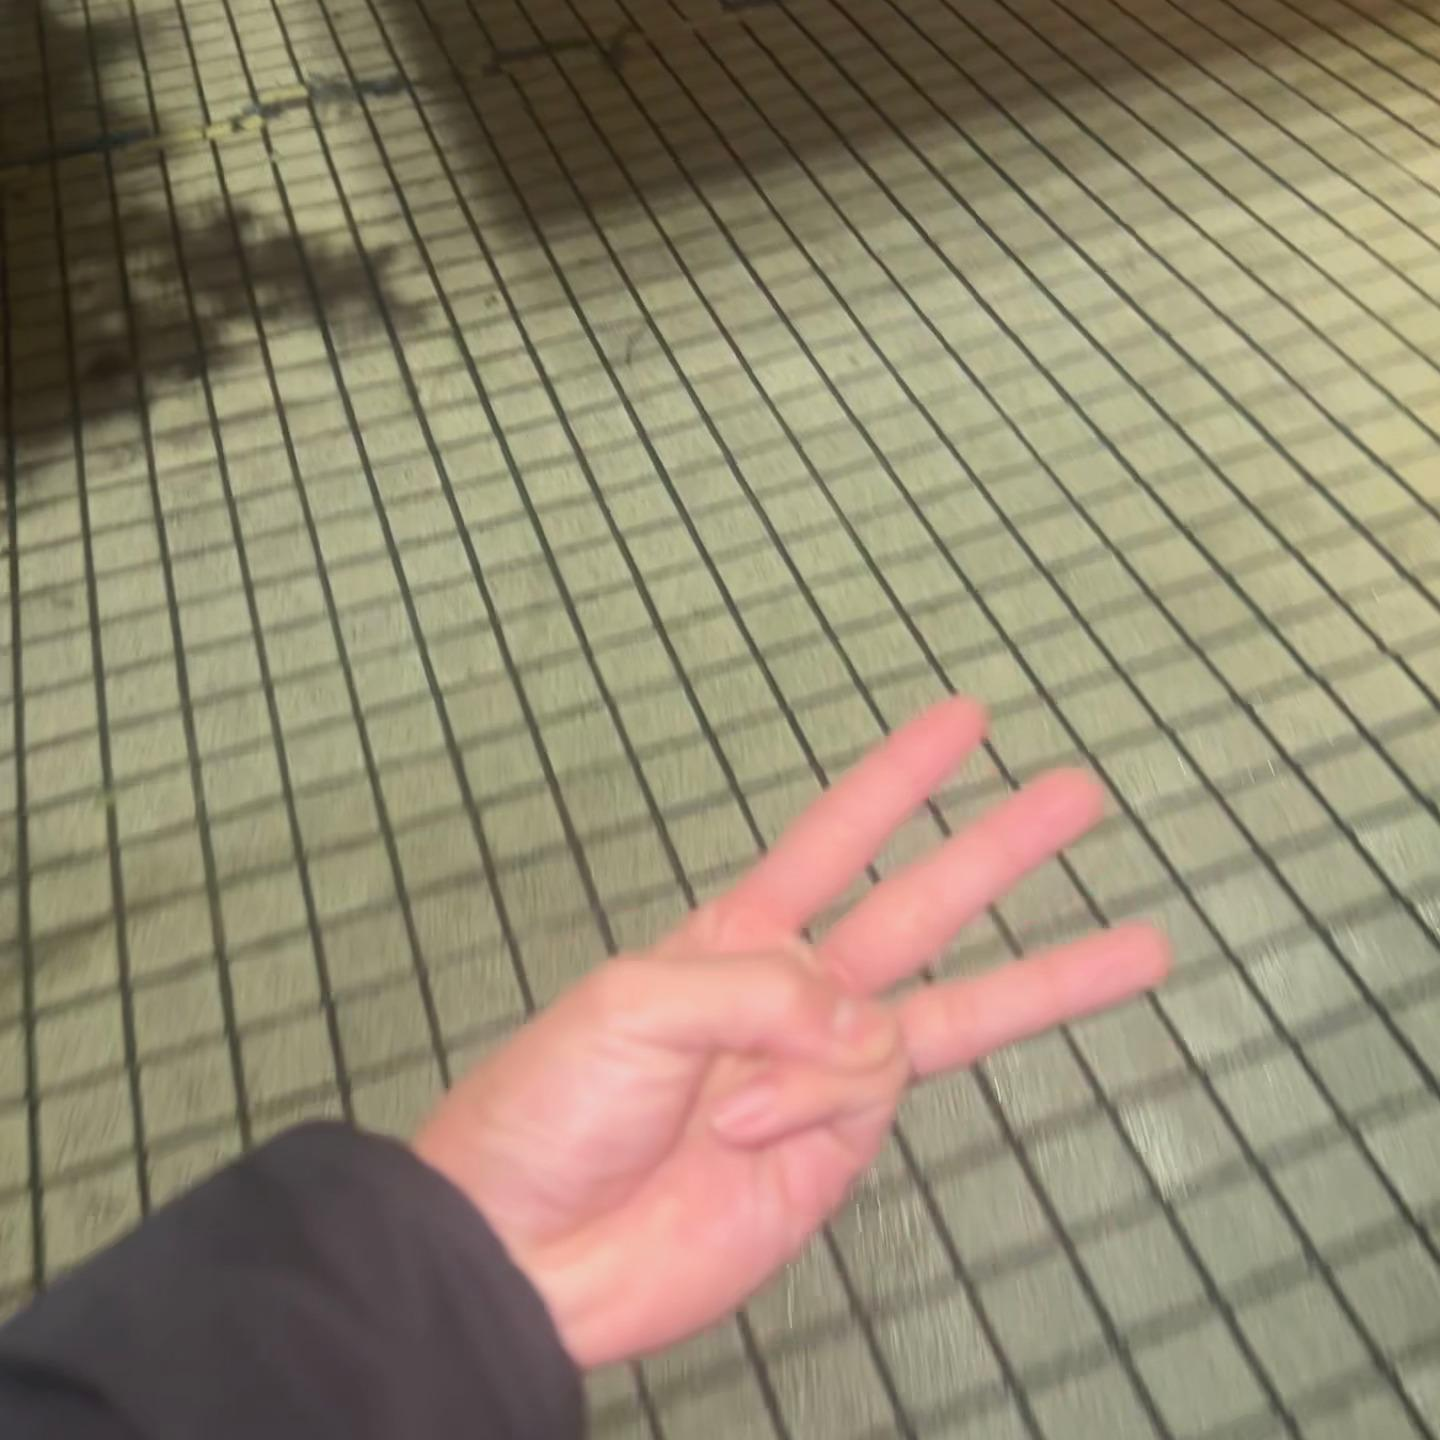without_gloves: (497, 501, 1267, 1296)
